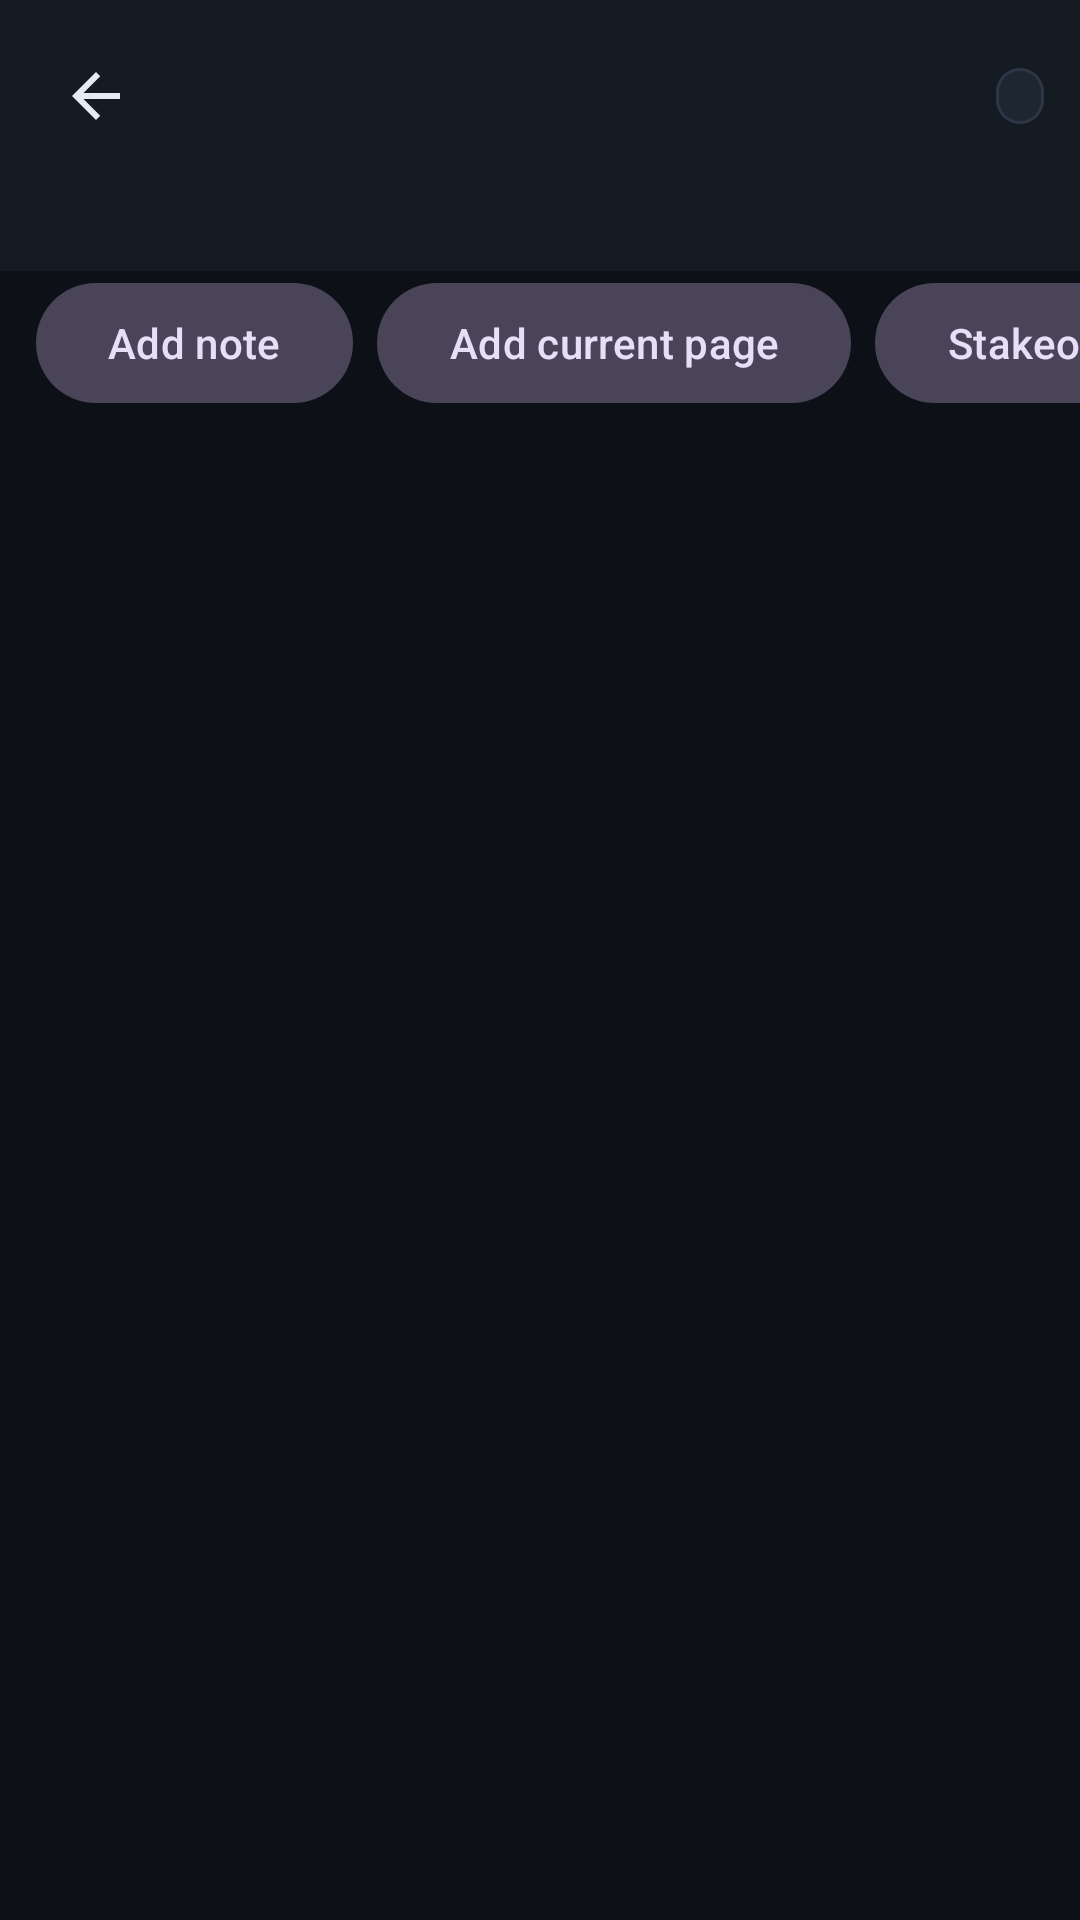

Locate icon controls on the screen. Image size 1080×1920, boxes as [x1, y1, x2, y2].
Back: [72, 72, 120, 120]
